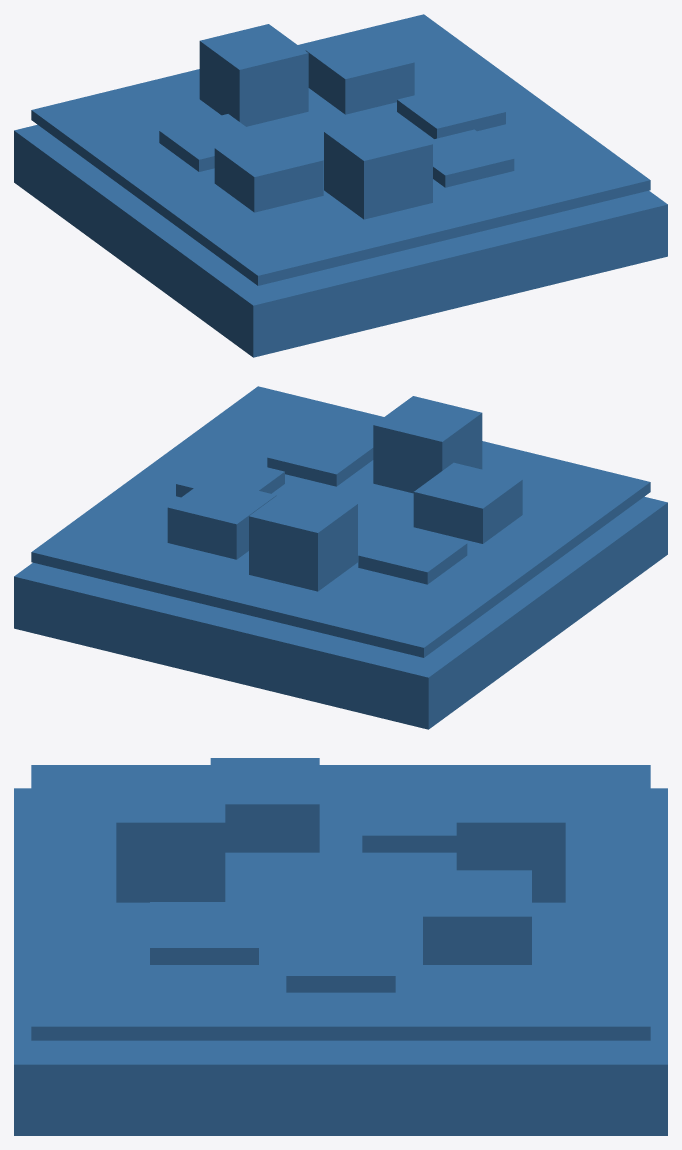
The model's file is shallow_ocean.glb.
3 views of the same model, one above another, from view 1: azimuth 30°, elevation 25°; view 2: azimuth 150°, elevation 25°; view 3: azimuth 270°, elevation 25° (orthographic). The views are drawn at different scales.
Visible parts, largest first — view 1: shallow_ocean water, shallow_ocean base, shallow_ocean relief.005, shallow_ocean relief.002, shallow_ocean relief.004, shallow_ocean relief.001, shallow_ocean relief, shallow_ocean relief.006, shallow_ocean relief.003; view 2: shallow_ocean water, shallow_ocean base, shallow_ocean relief.002, shallow_ocean relief.005, shallow_ocean relief.004, shallow_ocean relief.001, shallow_ocean relief.003, shallow_ocean relief.006, shallow_ocean relief; view 3: shallow_ocean water, shallow_ocean base, shallow_ocean relief.005, shallow_ocean relief.002, shallow_ocean relief.001, shallow_ocean relief.004, shallow_ocean relief, shallow_ocean relief.006, shallow_ocean relief.003.
Part boxes in pixels (left/top/right/bottom): shallow_ocean water: left=31, top=14, right=650, bottom=285; shallow_ocean base: left=14, top=124, right=667, bottom=357; shallow_ocean relief.005: left=324, top=115, right=432, bottom=219; shallow_ocean relief.002: left=199, top=24, right=308, bottom=126; shallow_ocean relief.004: left=214, top=131, right=323, bottom=212; shallow_ocean relief.001: left=305, top=33, right=414, bottom=114; shallow_ocean relief: left=397, top=83, right=505, bottom=138; shallow_ocean relief.006: left=428, top=129, right=514, bottom=187; shallow_ocean relief.003: left=159, top=114, right=259, bottom=171; shallow_ocean water: left=31, top=386, right=650, bottom=657; shallow_ocean base: left=14, top=496, right=667, bottom=729; shallow_ocean relief.002: left=249, top=487, right=357, bottom=591; shallow_ocean relief.005: left=373, top=396, right=482, bottom=493; shallow_ocean relief.004: left=413, top=462, right=522, bottom=543; shallow_ocean relief.001: left=167, top=478, right=276, bottom=559; shallow_ocean relief.003: left=358, top=526, right=467, bottom=584; shallow_ocean relief.006: left=267, top=428, right=373, bottom=486; shallow_ocean relief: left=176, top=455, right=284, bottom=497; shallow_ocean water: left=31, top=765, right=650, bottom=1040; shallow_ocean base: left=14, top=788, right=667, bottom=1135; shallow_ocean relief.005: left=116, top=776, right=225, bottom=902; shallow_ocean relief.002: left=456, top=776, right=565, bottom=902; shallow_ocean relief.001: left=423, top=870, right=531, bottom=964; shallow_ocean relief.004: left=210, top=758, right=319, bottom=852; shallow_ocean relief: left=286, top=929, right=395, bottom=992; shallow_ocean relief.006: left=150, top=902, right=258, bottom=964; shallow_ocean relief.003: left=362, top=789, right=456, bottom=852.
Bounding box in the file's own units: 3 × 0.92 × 3.
